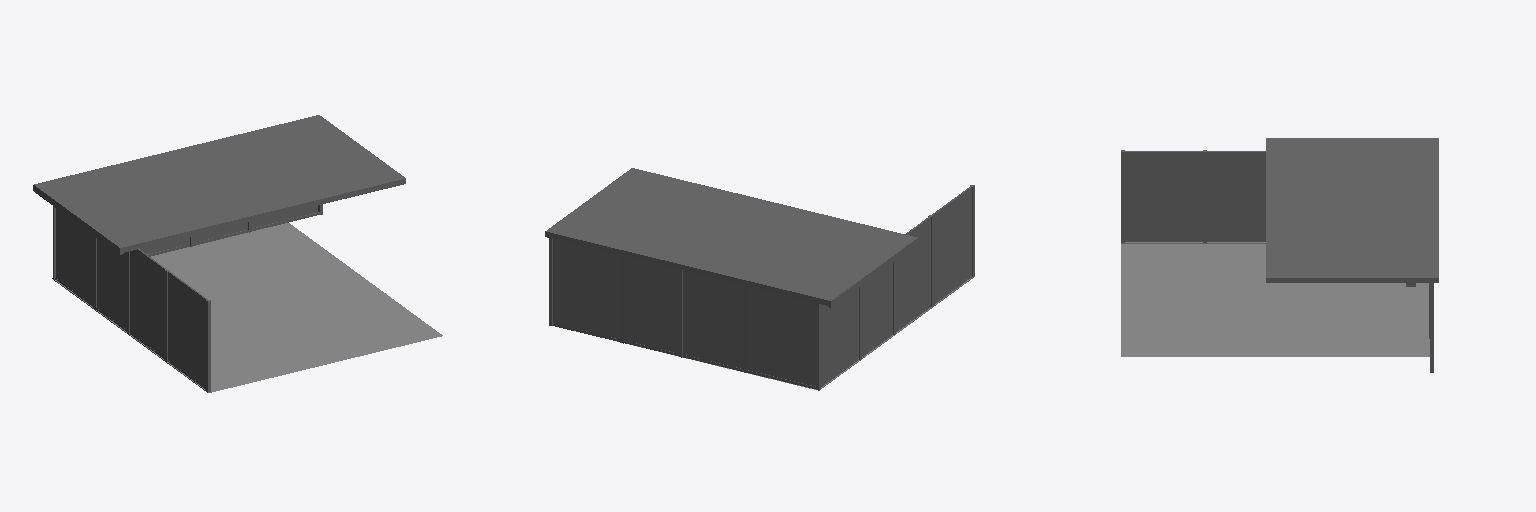
Rendered from house_interior.obj.
3 views of the same model, side by side, from view 1: azimuth 30°, elevation 25°; view 2: azimuth 150°, elevation 25°; view 3: azimuth 270°, elevation 25° (orthographic).
Visible parts, largest first — view 1: Plane004; view 2: Plane004; view 3: Plane004.
Part boxes in pixels (x1,y1,x2,y2): Plane004: (33, 115, 442, 392); Plane004: (545, 168, 974, 390); Plane004: (1121, 138, 1438, 372).
Size of the model in its own units: 439 by 141 by 423.